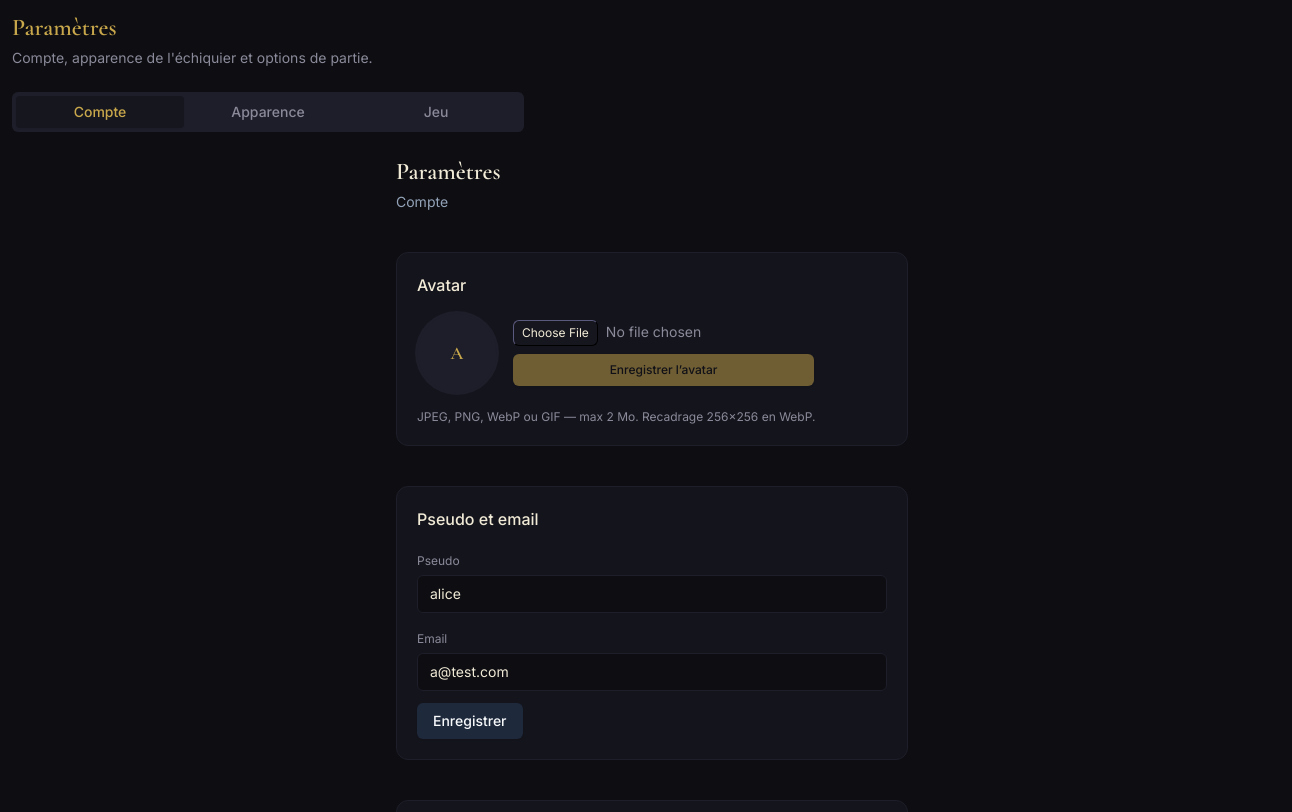
SettingsPageClient › affiche l’onglet Jeu après clic
Click the tab "Jeu". click: point(436, 112)
box: [352,96,520,128]
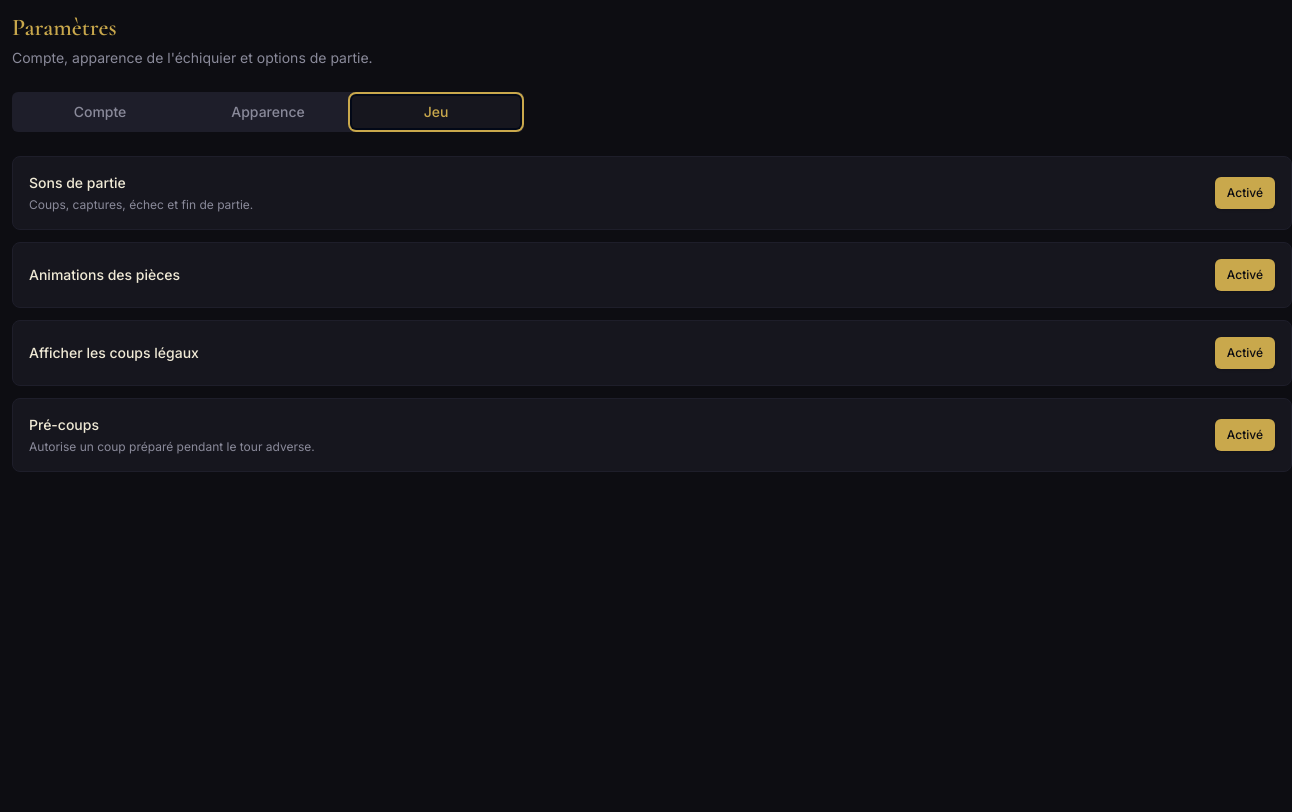
Result: the text "Sons de partie" is shown at [29,174,126,191]
